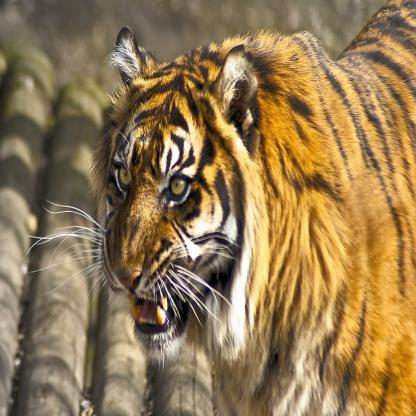tiger: (81, 35, 281, 335)
